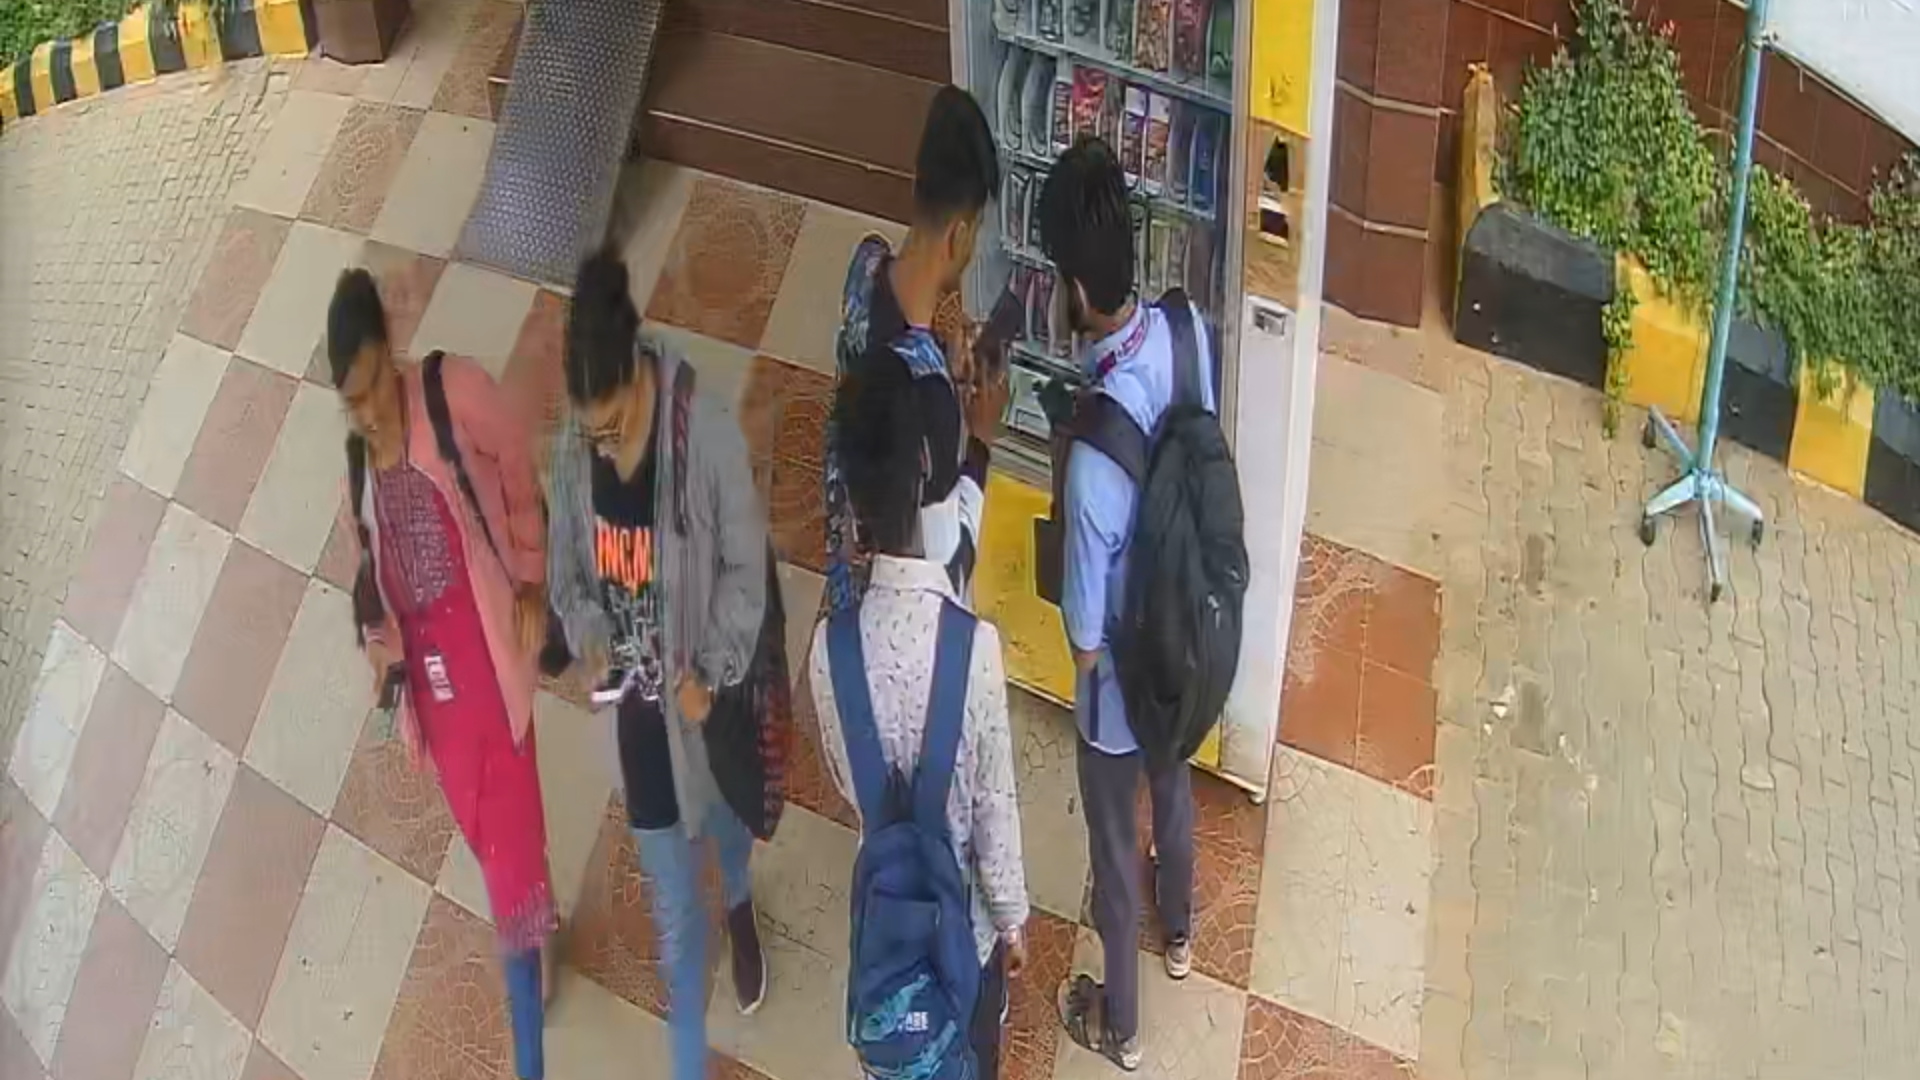intruder: (547, 243, 752, 1080)
not intruder: (301, 272, 554, 1065)
